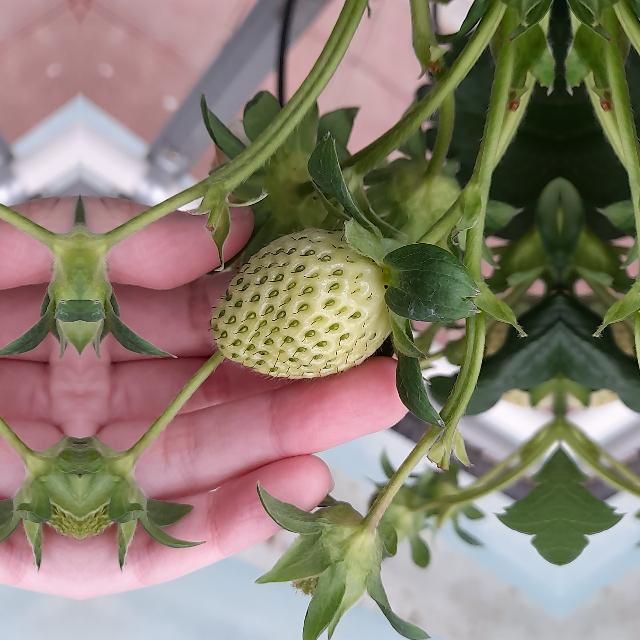Health_25: (210, 226, 392, 380), (294, 504, 376, 604)
